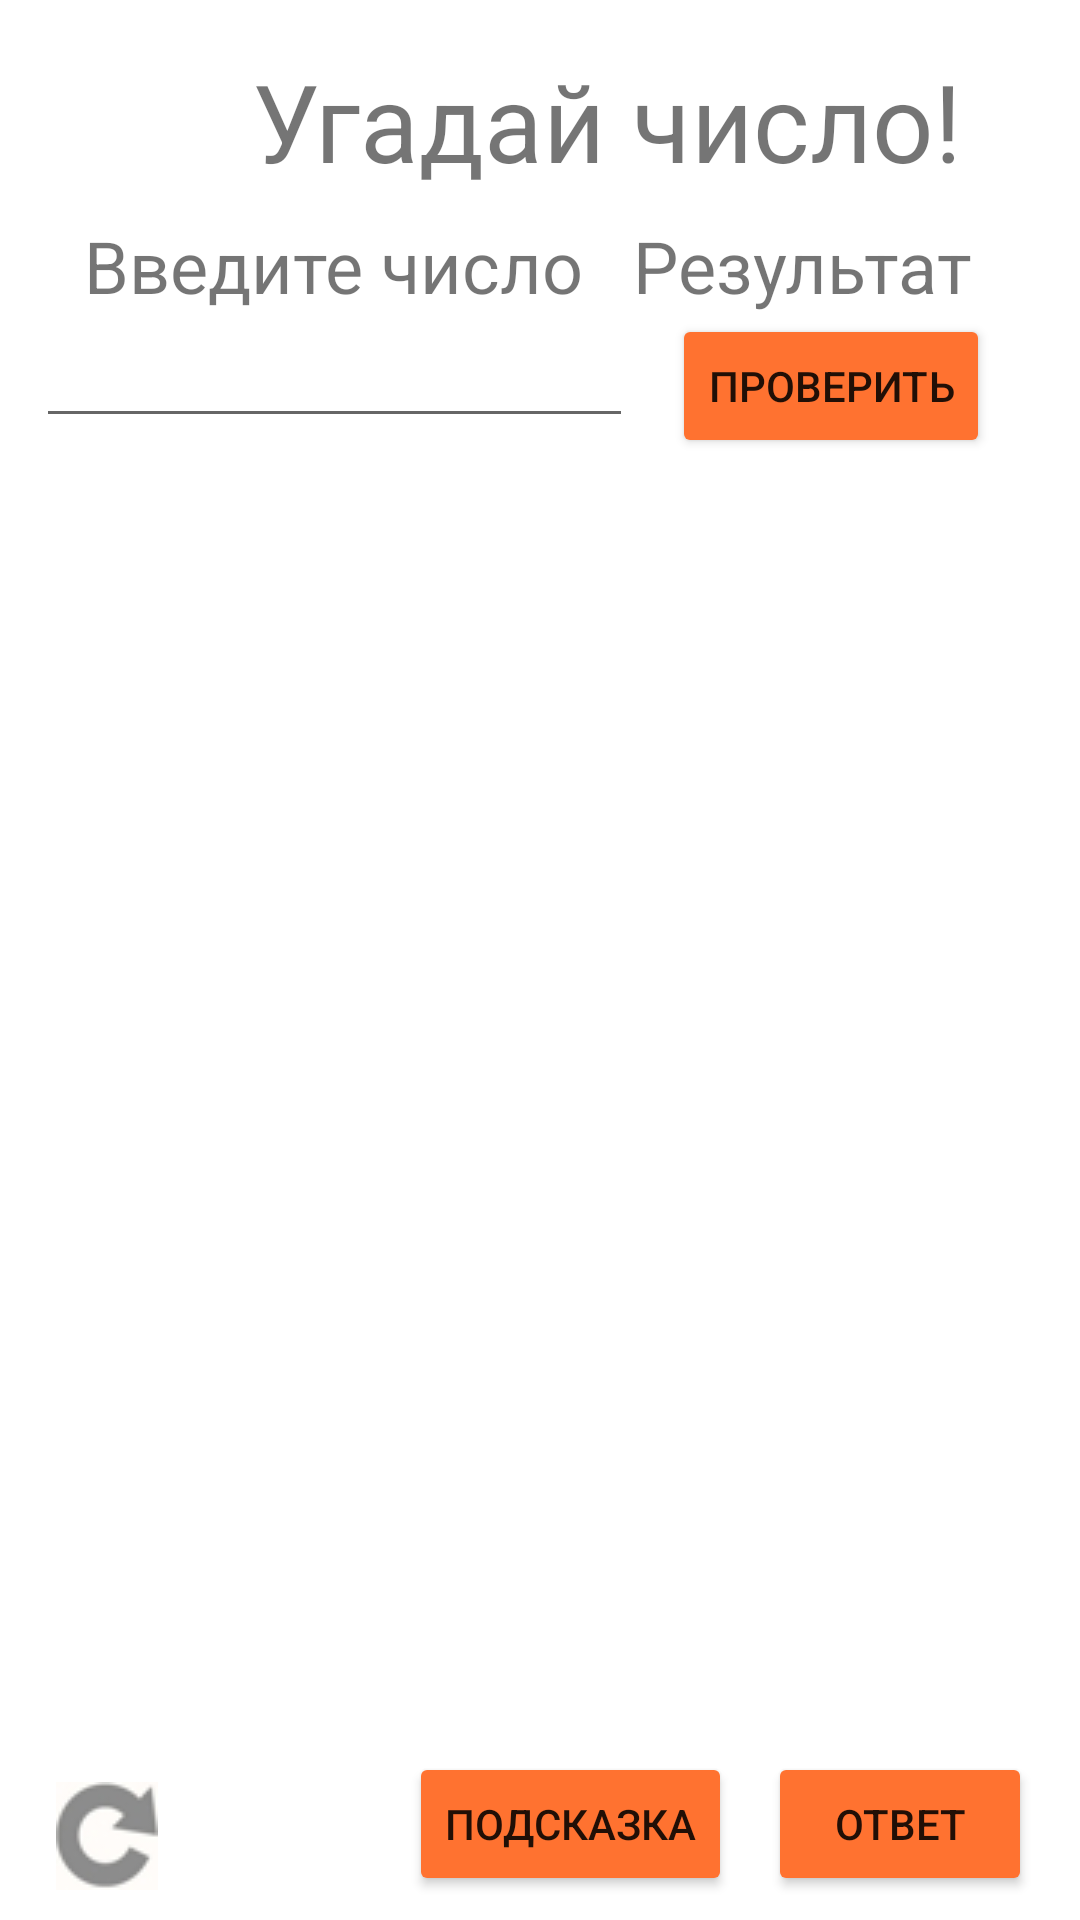

Point at icon controls on the screen. Image size 1080px×1920px, points as point (x, y).
restart: point (107, 1835)
